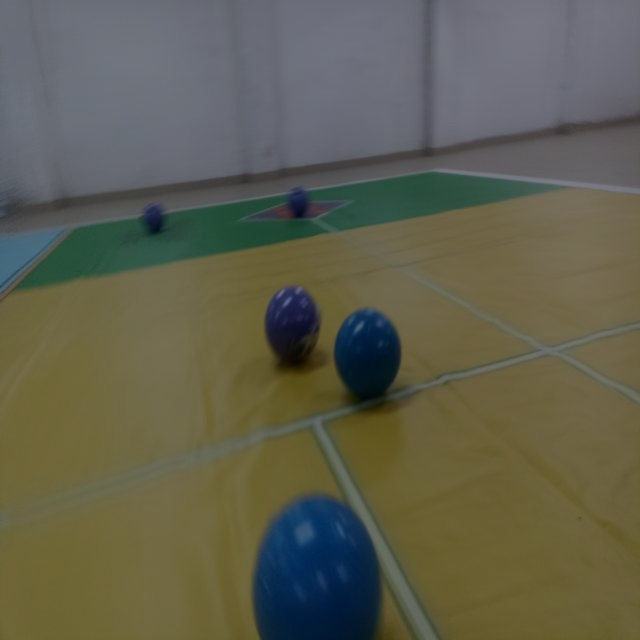blue_ball: (245, 491, 386, 638), (332, 304, 406, 404)
purple_ball: (263, 284, 323, 375)
